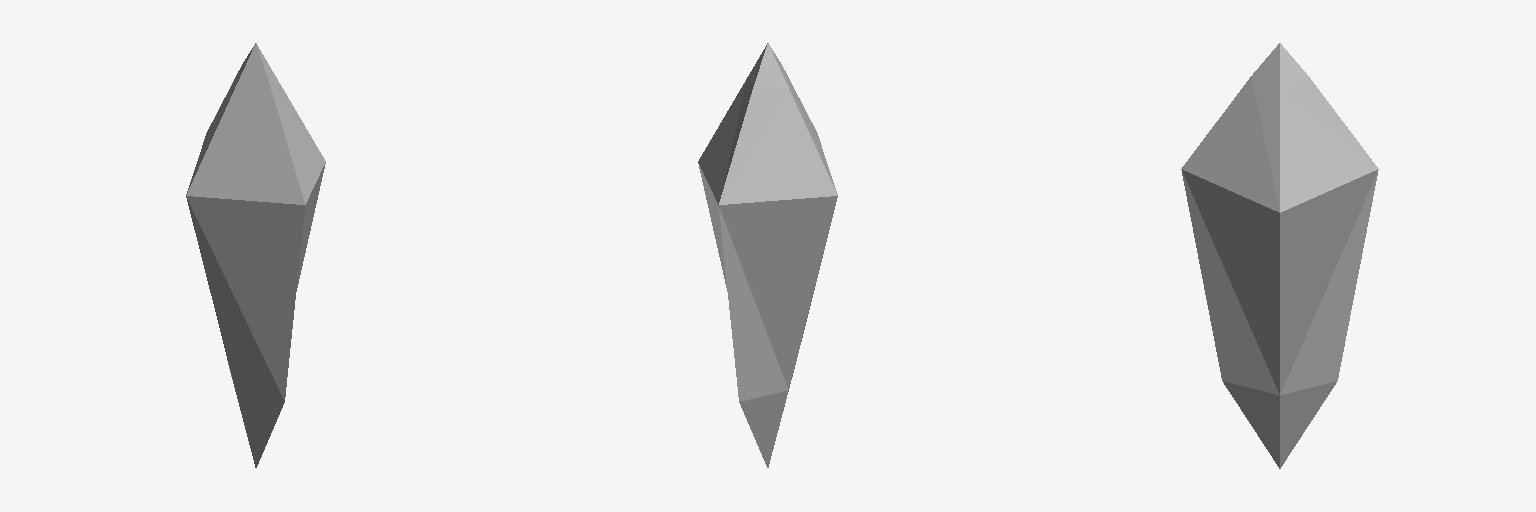
Rendered from JordanPrism1.obj.
3 views of the same model, side by side, from view 1: azimuth 30°, elevation 25°; view 2: azimuth 150°, elevation 25°; view 3: azimuth 270°, elevation 25° (orthographic).
Visible parts, largest first — view 1: pPlatonic1; view 2: pPlatonic1; view 3: pPlatonic1.
Part boxes in pixels (x1,y1,x2,y2): pPlatonic1: (186,43,325,467); pPlatonic1: (698,43,837,467); pPlatonic1: (1181,43,1378,468).
Bounding box in the file's own units: 0.7829 × 2.28 × 0.9563.